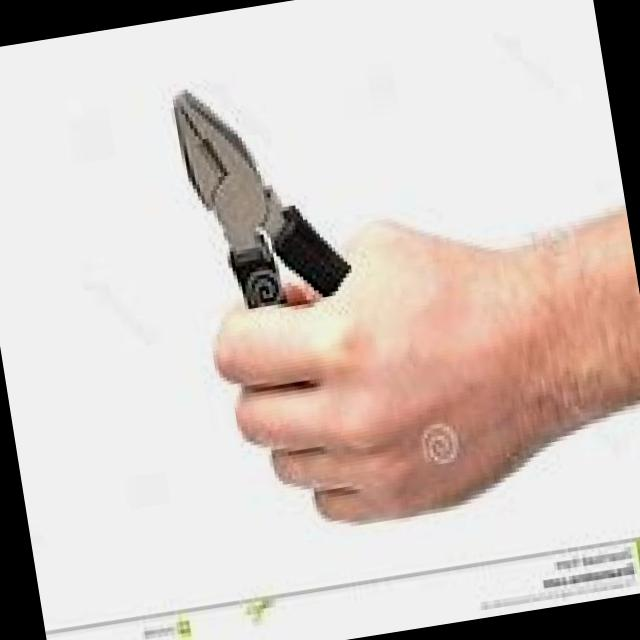pliers: (174, 91, 351, 308)
